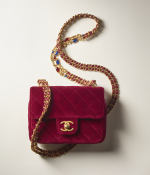channel: (20, 73, 118, 151), (49, 38, 80, 86), (54, 88, 97, 115), (35, 78, 49, 127), (55, 118, 74, 133)
